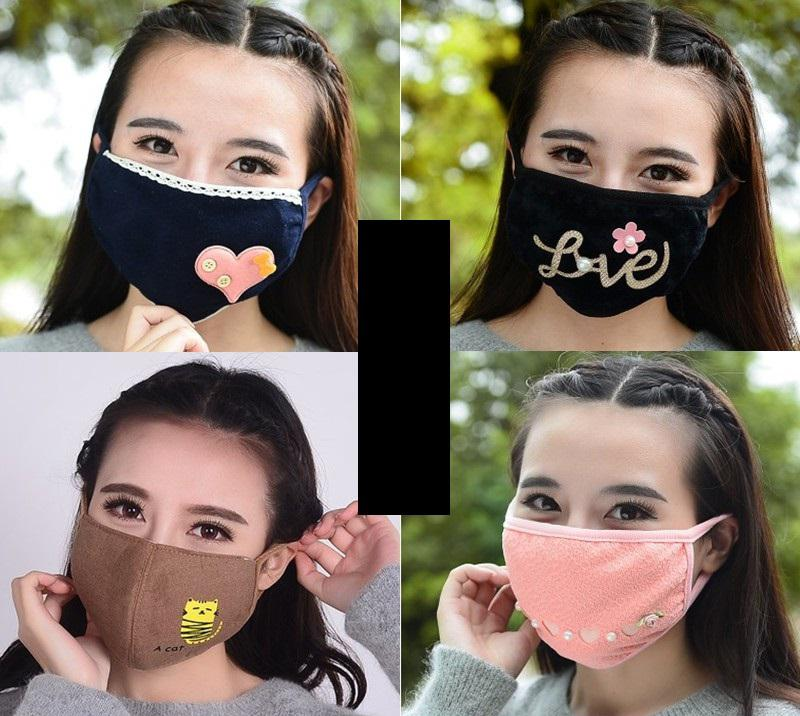OK: (518, 100, 724, 317), (101, 101, 302, 302), (508, 470, 701, 673), (80, 467, 269, 663)
